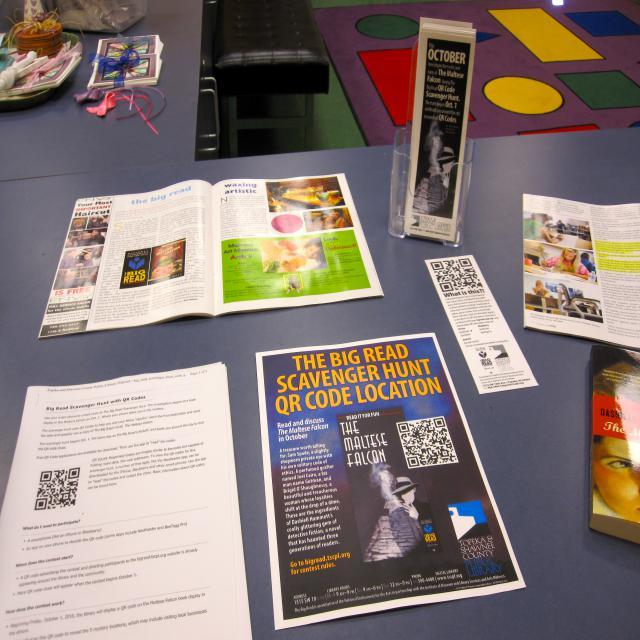qrcode: (399, 419, 458, 468), (35, 468, 81, 511), (431, 259, 484, 293)
